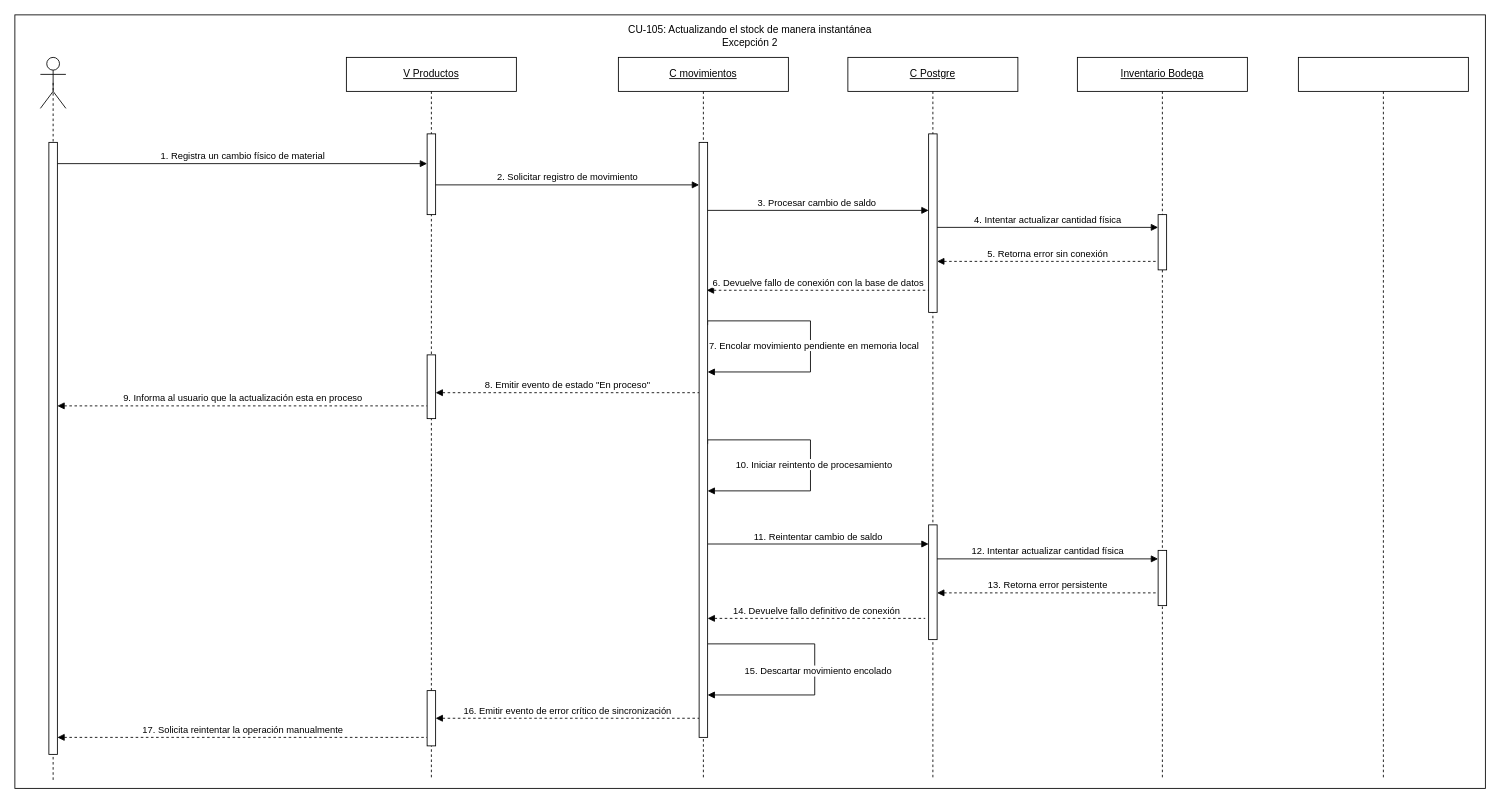
This 1500x803 diagram has some shape labels left out. The shapes that lost their labels are listed below. From the top down, each one's box as (x1, y1, x2, y2) in pixels, then its label:
(40, 57, 66, 108): Gerencia/JOP
(1298, 57, 1468, 780): Movimiento Inventario
